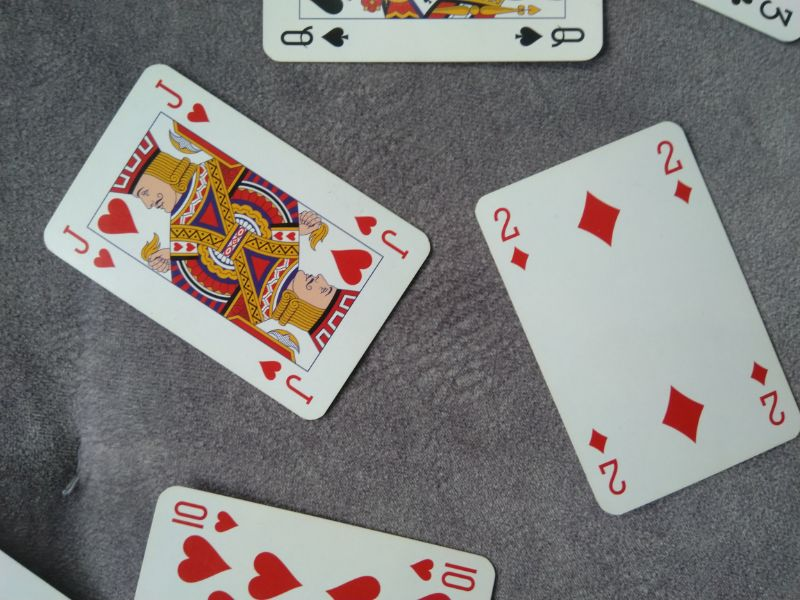2d: (585, 427, 631, 498), (489, 203, 533, 275), (749, 357, 789, 428), (655, 138, 696, 206)
Jh: (151, 74, 214, 126), (352, 212, 414, 262), (255, 357, 316, 406), (62, 223, 117, 272)
Qs: (277, 21, 354, 54), (512, 23, 589, 52)
Th: (407, 556, 481, 593), (169, 500, 241, 535)
